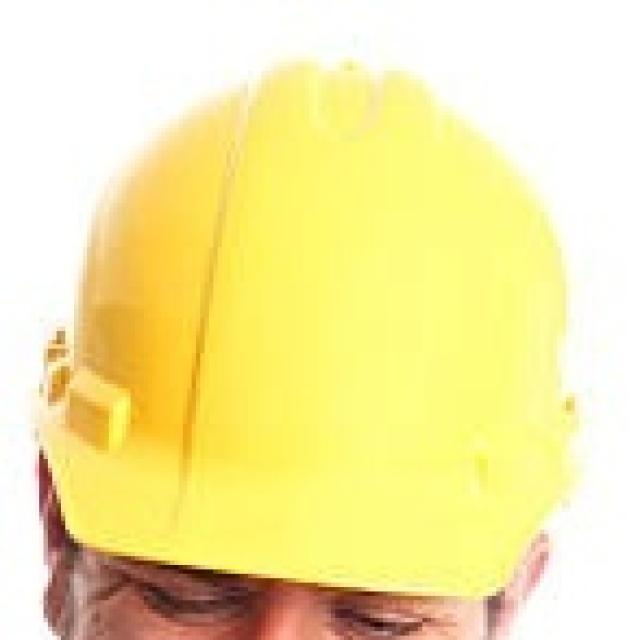helmet_yellow: (2, 2, 638, 638)
